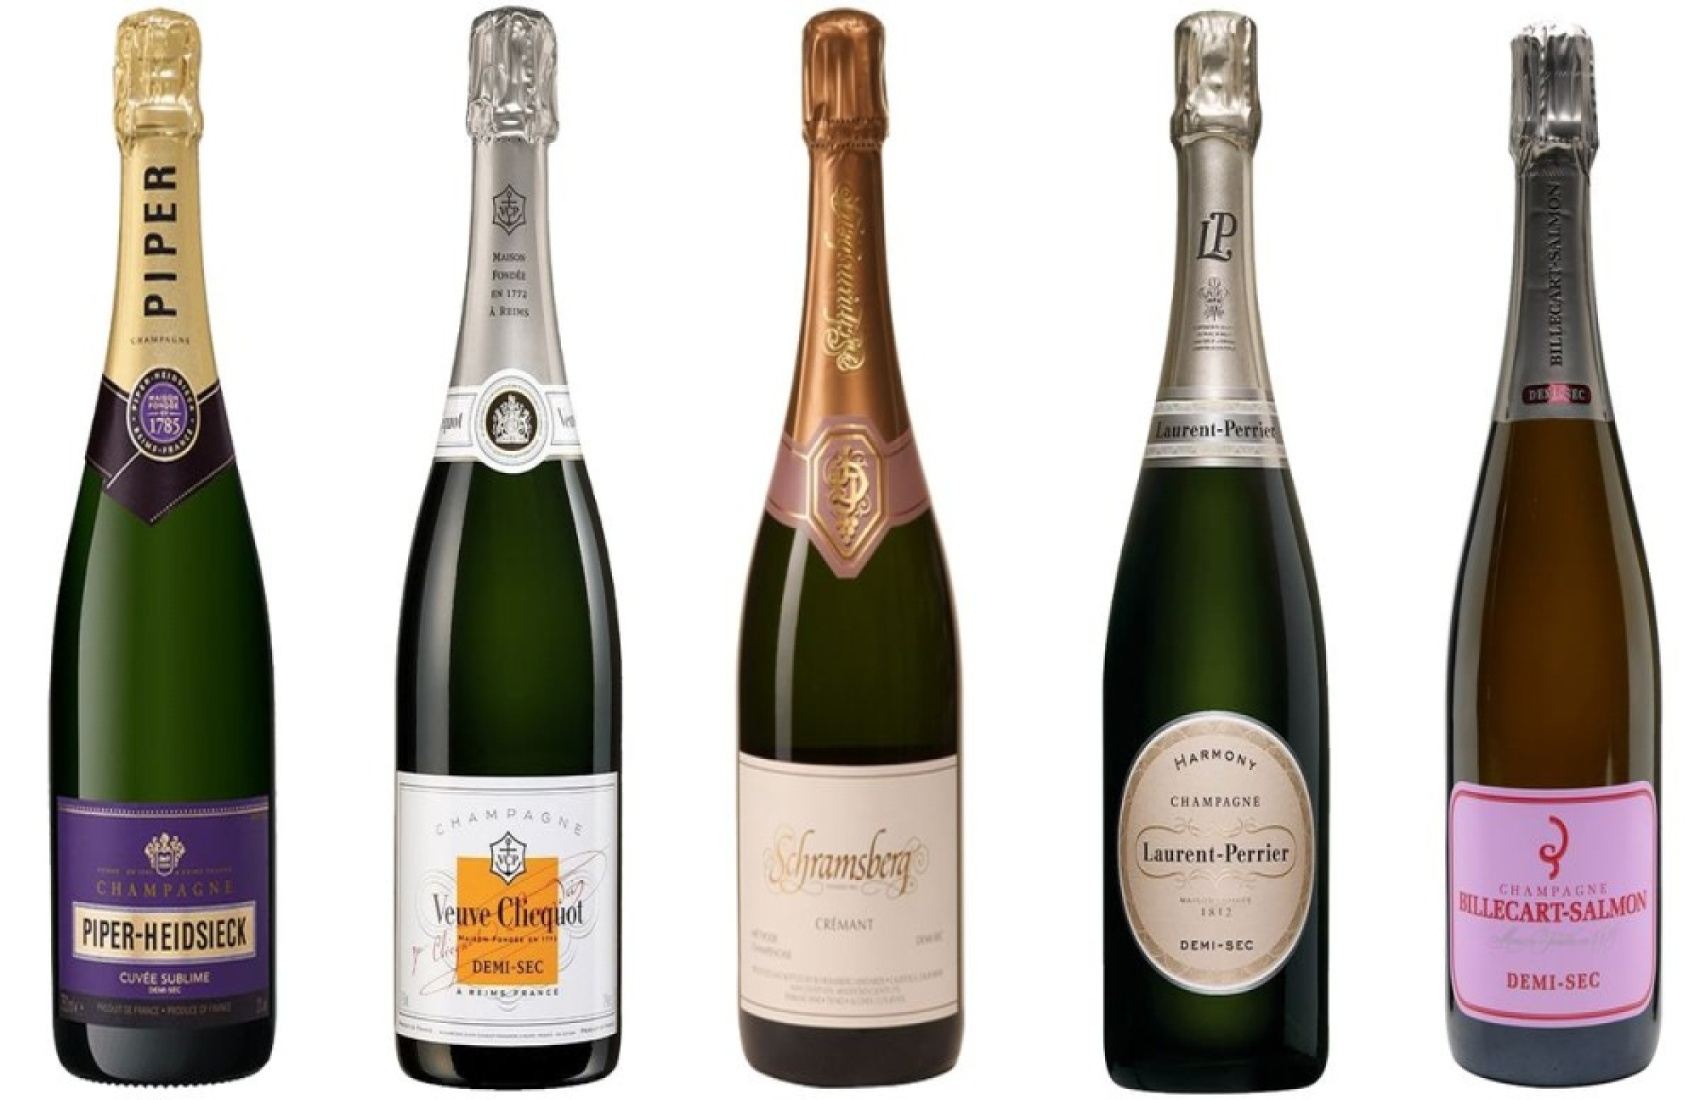wine: (1430, 62, 1660, 1072), (730, 68, 960, 1076), (385, 59, 615, 1068), (1106, 64, 1336, 1073), (43, 48, 273, 1057)
